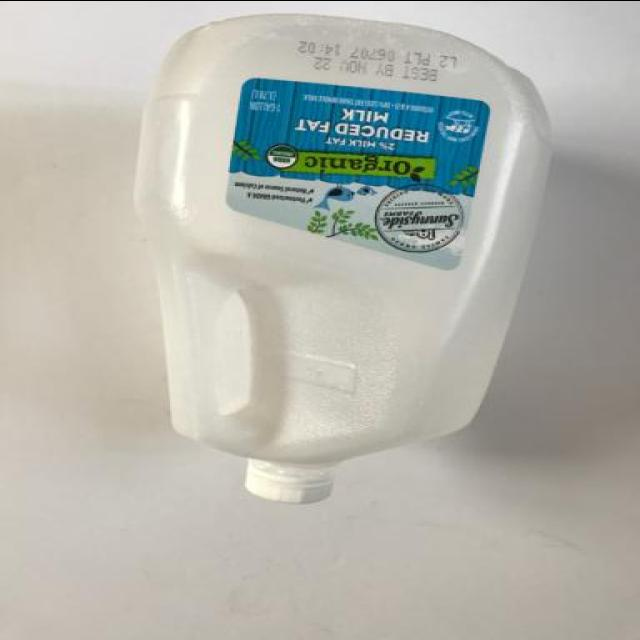HDPEM: (132, 12, 562, 512)
